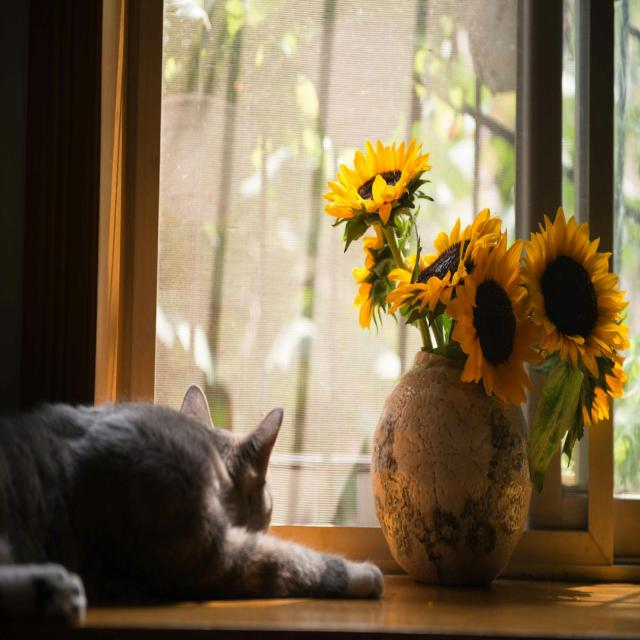Cat: (0, 383, 384, 626)
